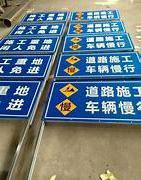sign: (46, 82, 141, 122), (58, 53, 141, 77), (1, 79, 41, 117), (63, 34, 135, 50), (1, 55, 50, 77), (1, 36, 58, 53), (6, 23, 65, 36), (68, 22, 126, 34), (71, 10, 121, 23), (24, 10, 68, 23)
